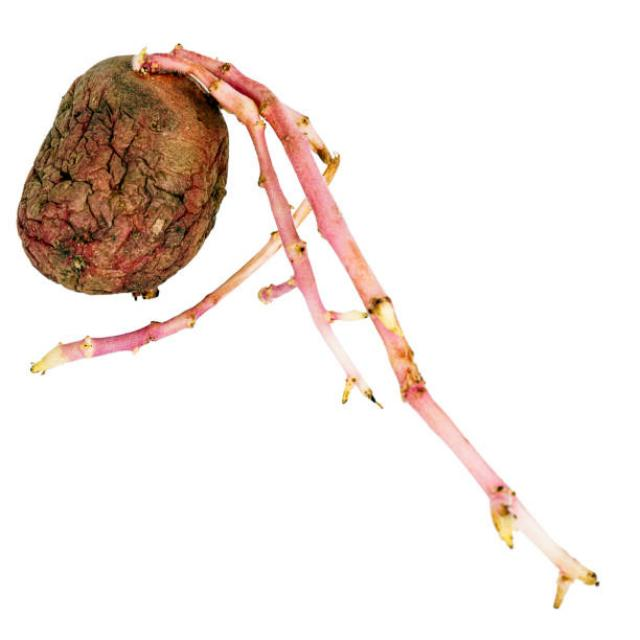Sprouted potato: (1, 1, 426, 482)
